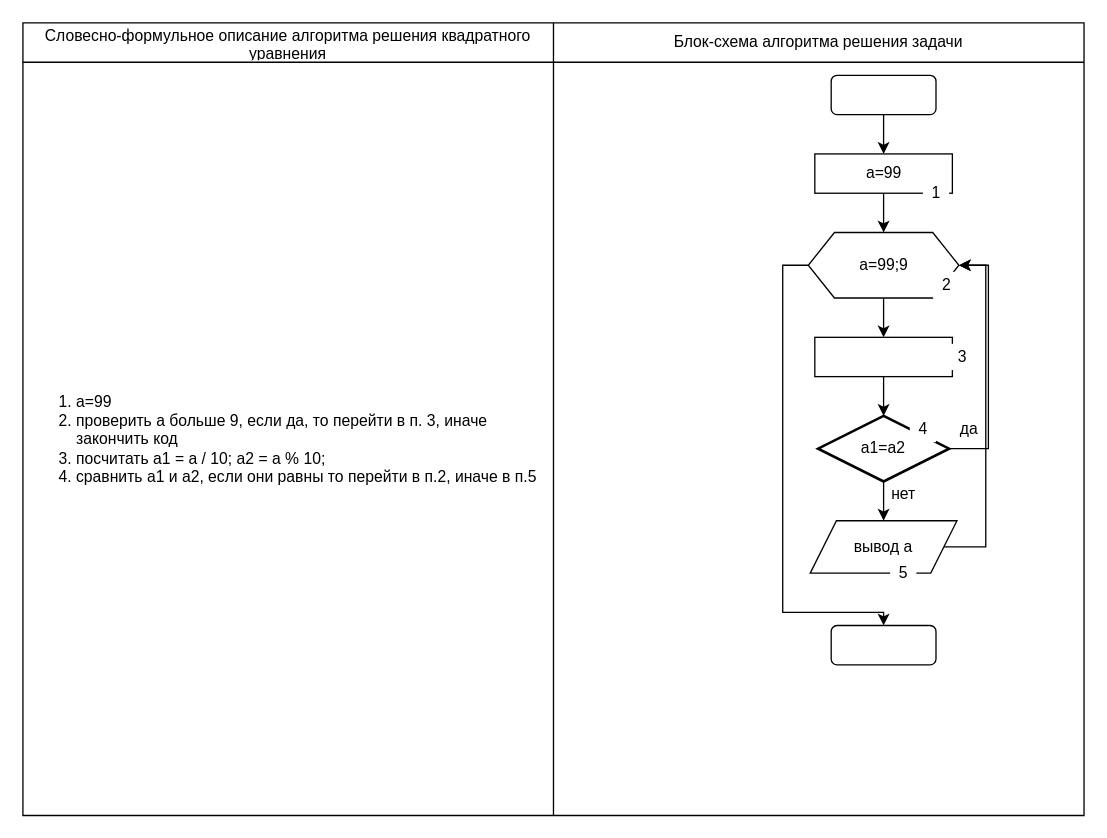
This 1107x838 diagram has some shape labels left out. Each missing label, with the centre of its shape:
"a1 = a / 10; a2 = a % 10;" goes at pixel 883 356.
"конец" goes at pixel 883 644.
"начало" goes at pixel 883 94.
